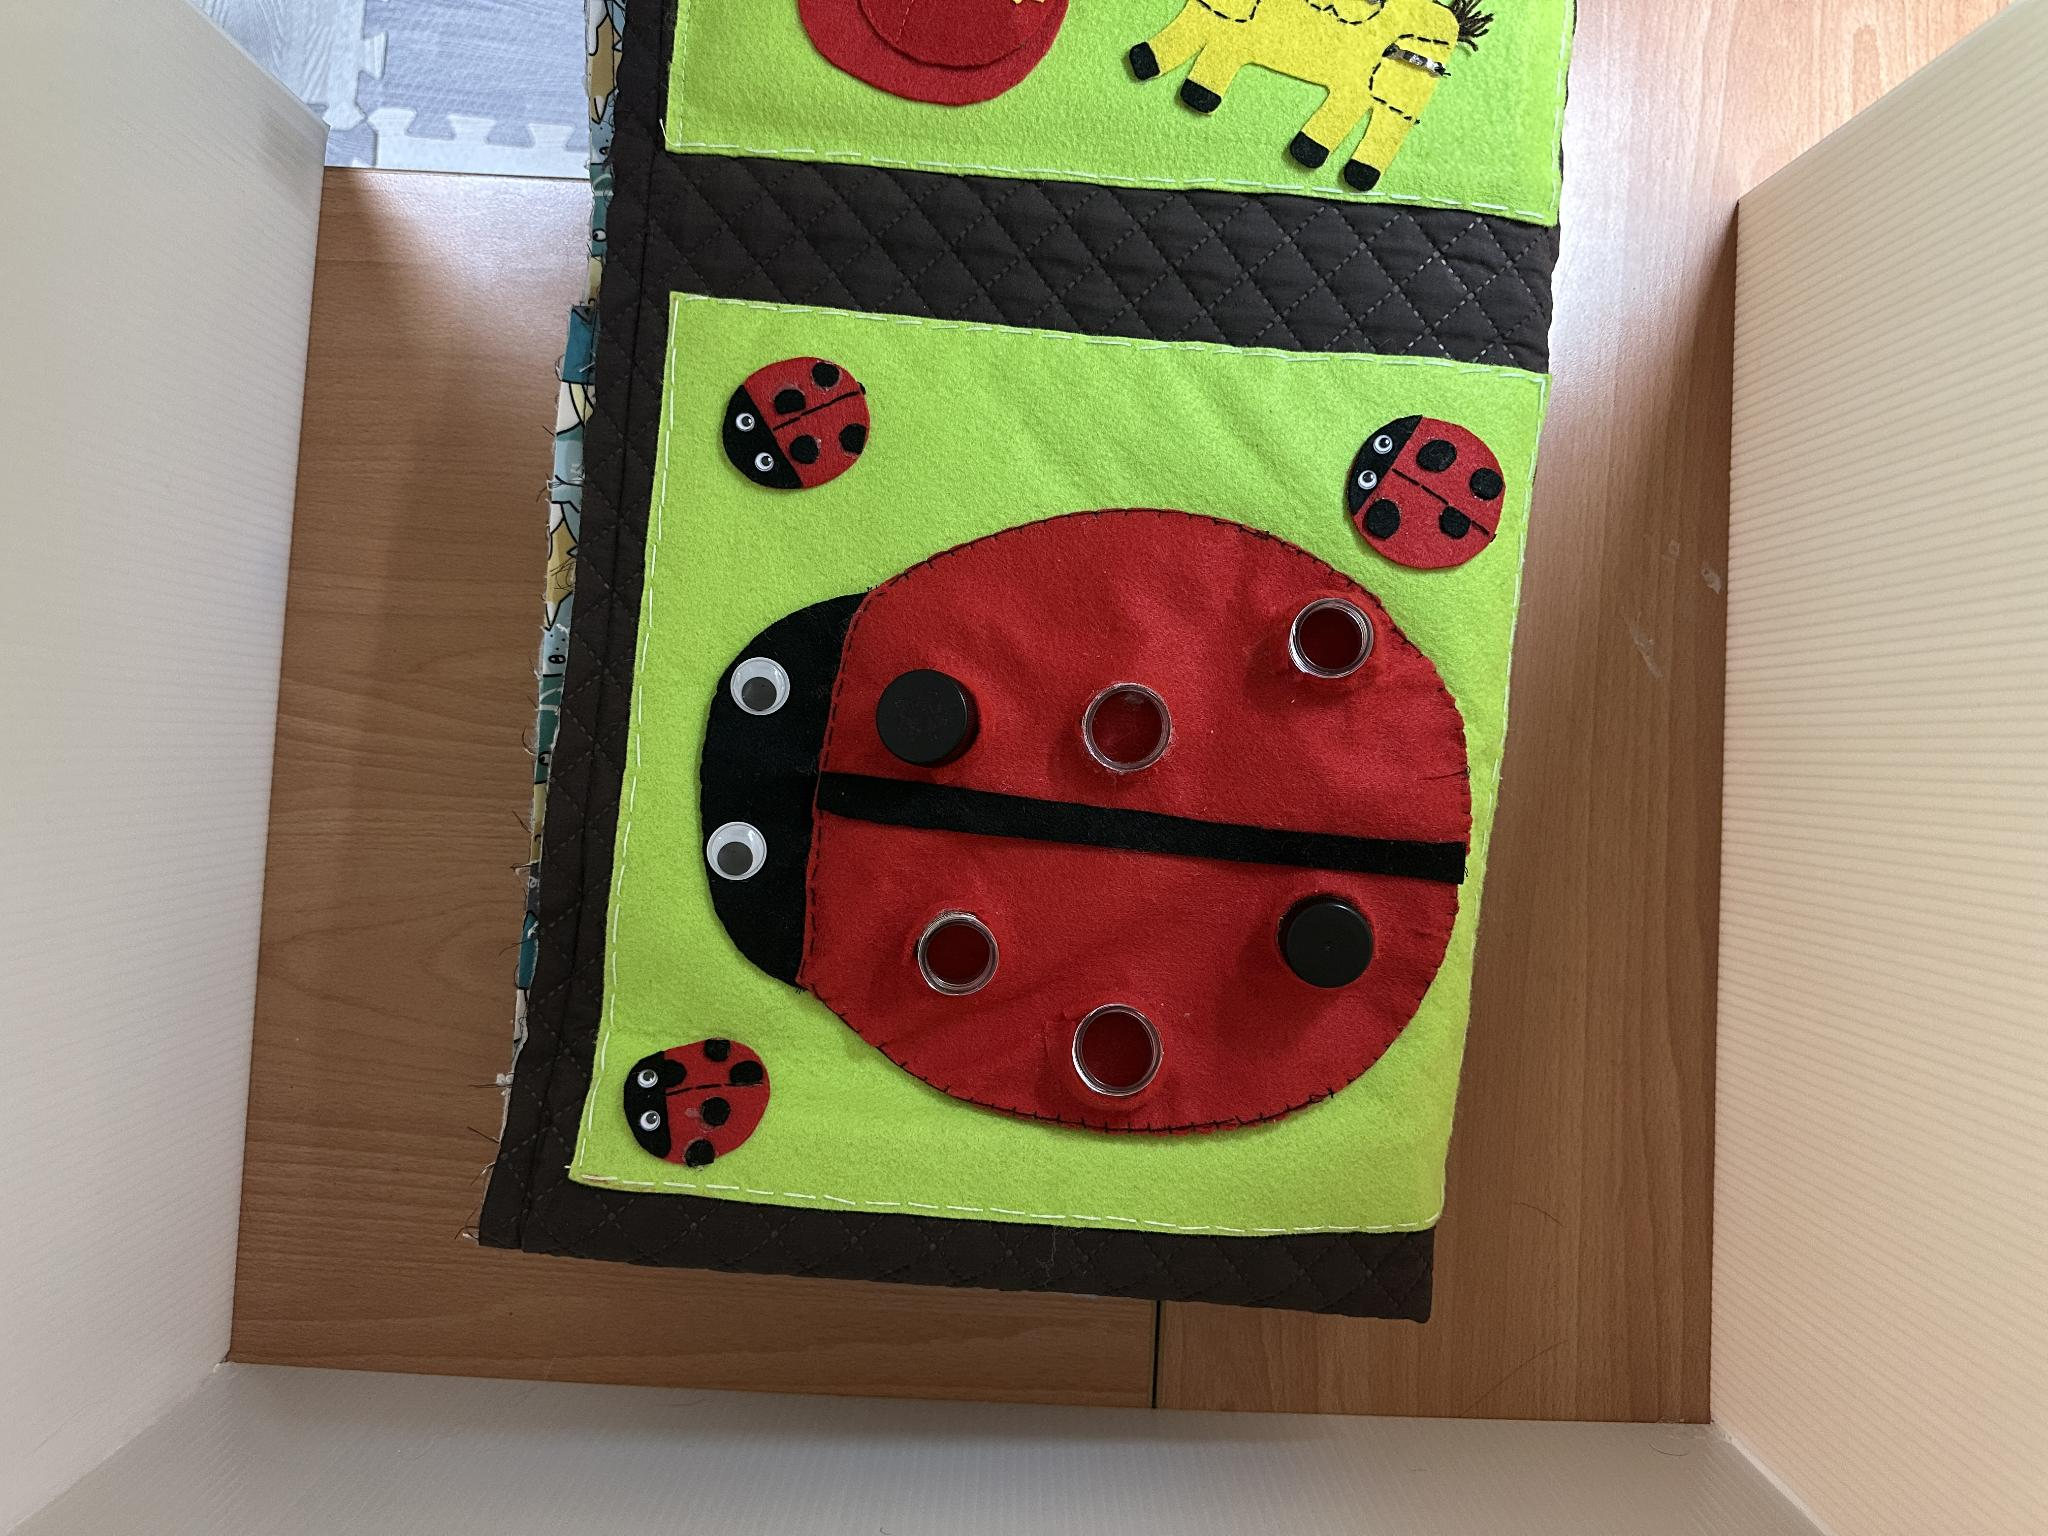cap_ok: (1232, 862, 1419, 1026), (853, 645, 1008, 791)
